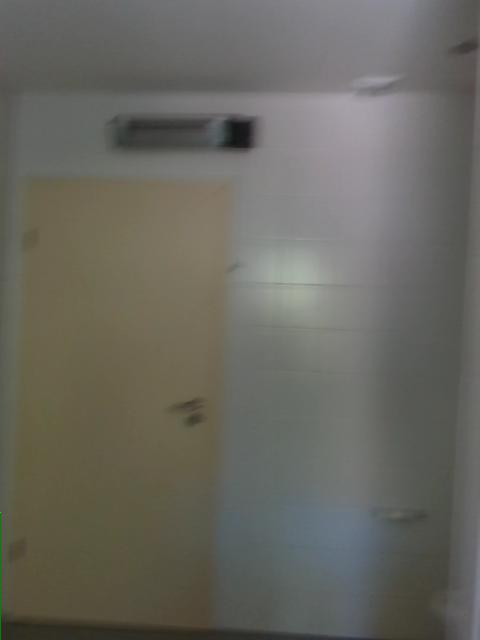door: (8, 181, 227, 625)
